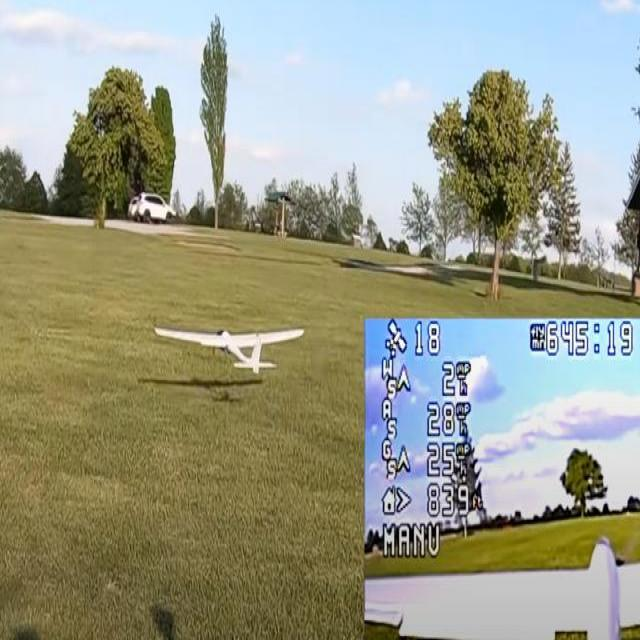iha: (148, 339, 314, 355), (630, 34, 636, 57)
